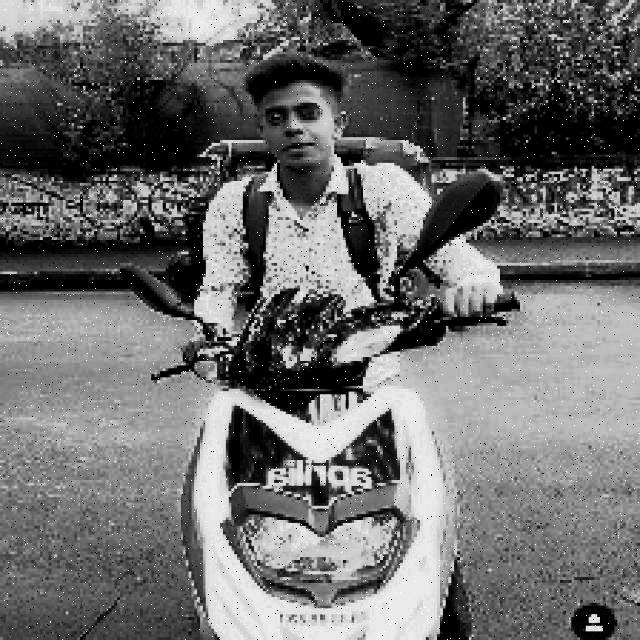Bike: (188, 299, 452, 639)
